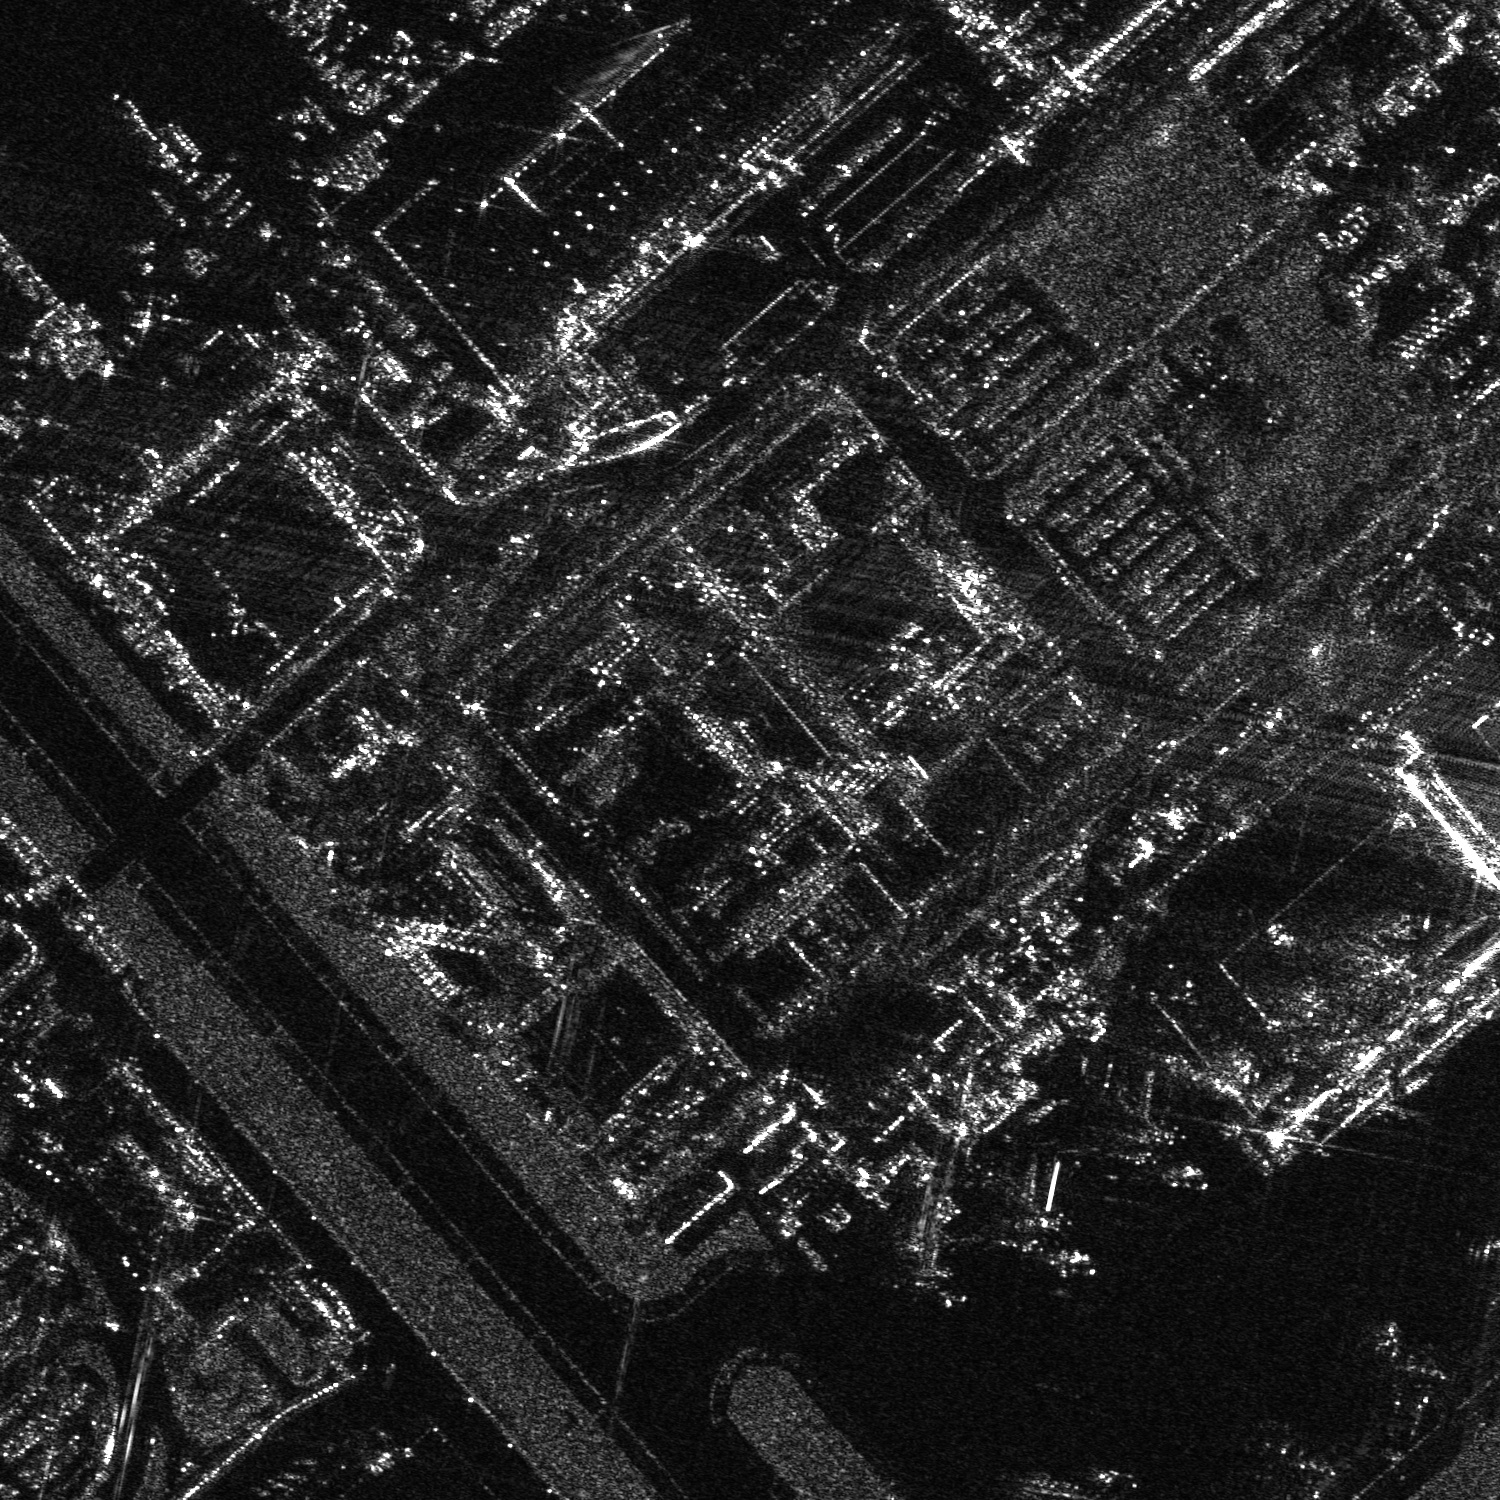Boeing737: (874, 1188, 984, 1302)
Boeing787: (1073, 1062, 1170, 1147), (975, 1159, 1066, 1242), (1364, 1316, 1445, 1398)
other: (1005, 1467, 1146, 1499), (1468, 1229, 1499, 1319)
